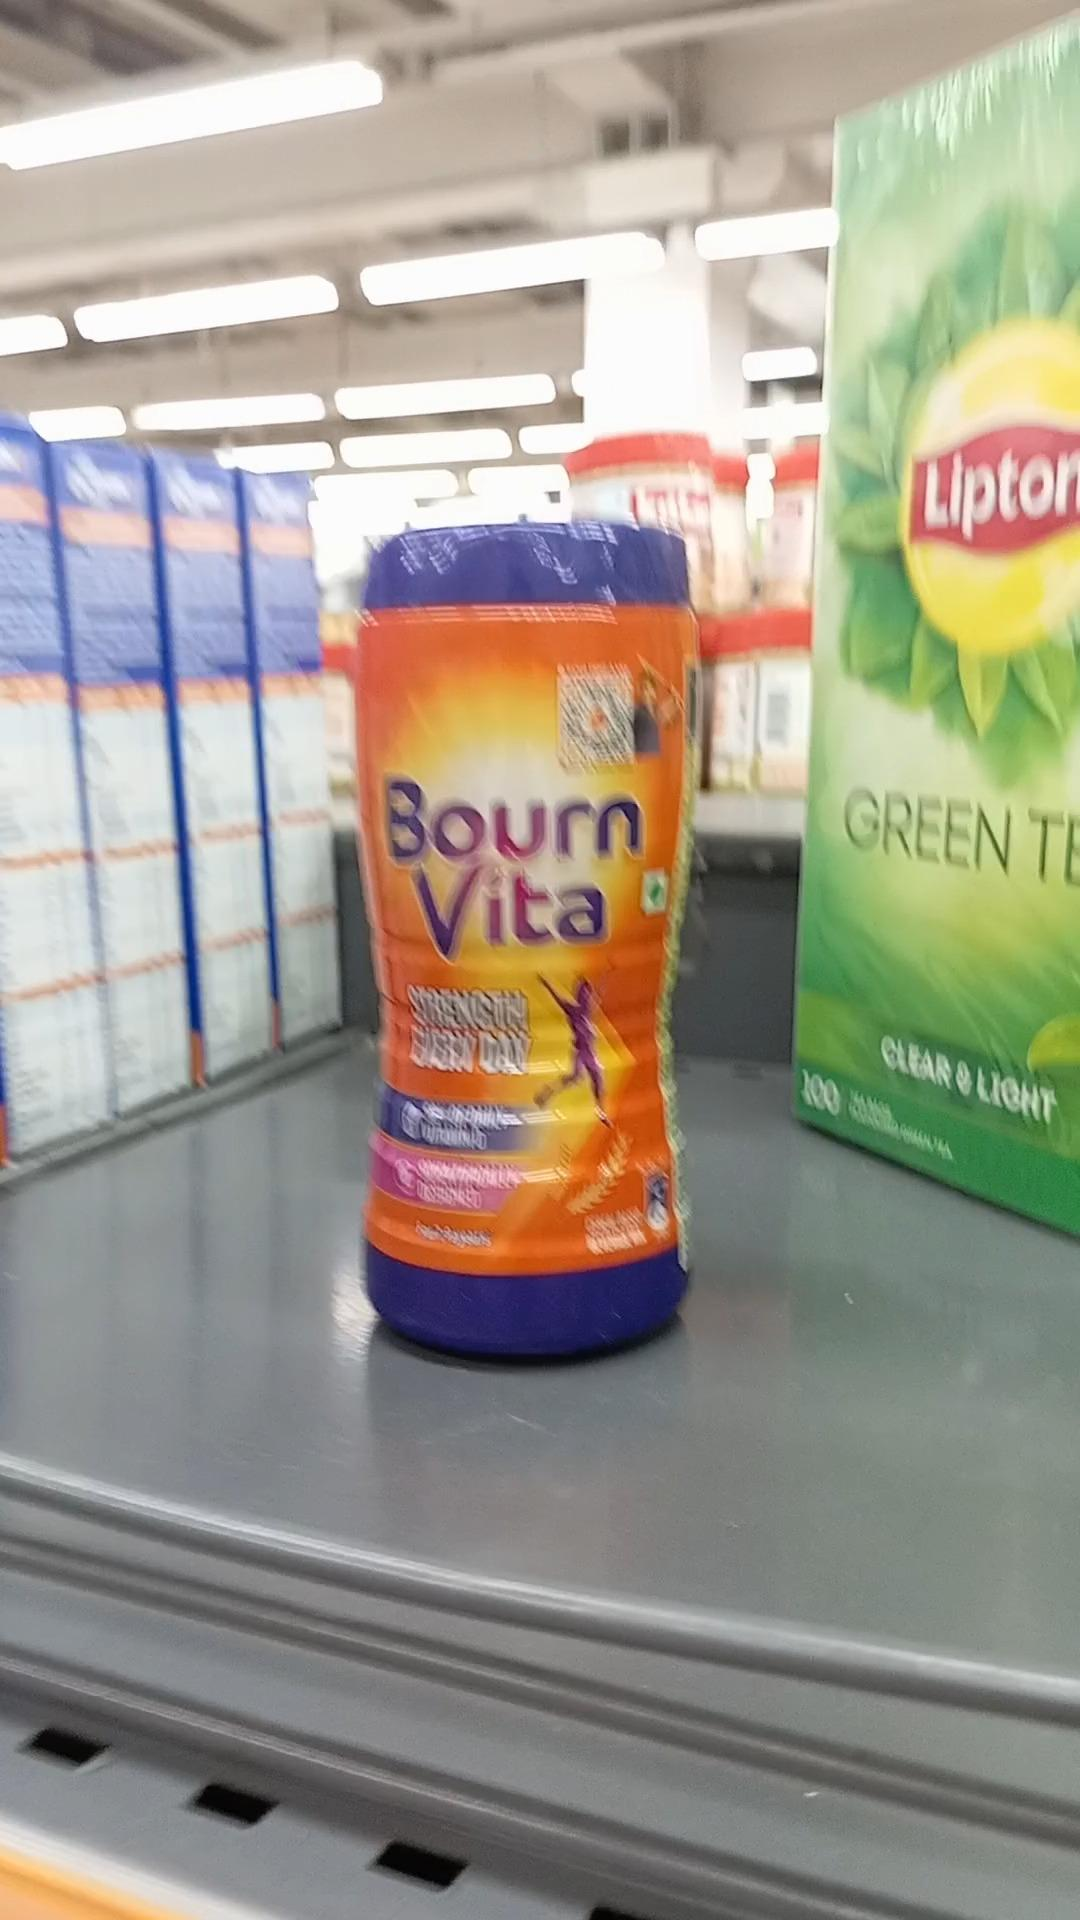BOURN_VITA_200_G_JAR: (353, 489, 688, 1365)
